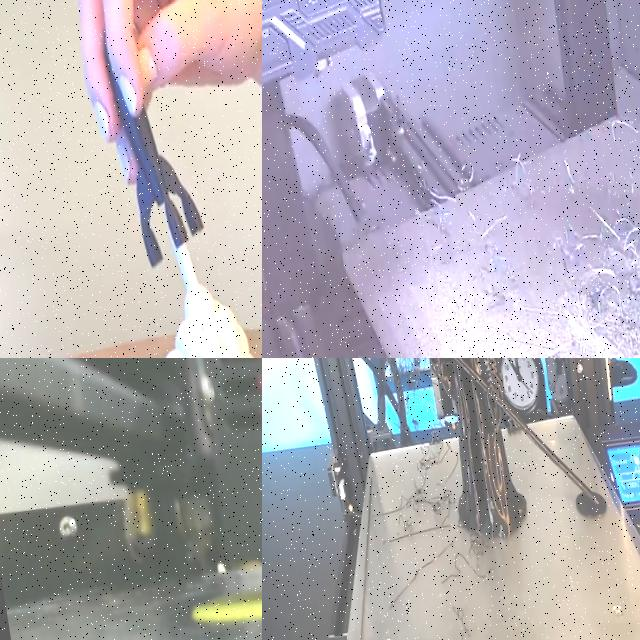spaghetti: (410, 170, 468, 246), (499, 140, 548, 222), (588, 267, 640, 336), (478, 232, 516, 299), (607, 193, 640, 267), (602, 98, 640, 154), (552, 223, 592, 272), (552, 148, 584, 204), (537, 335, 578, 358)
